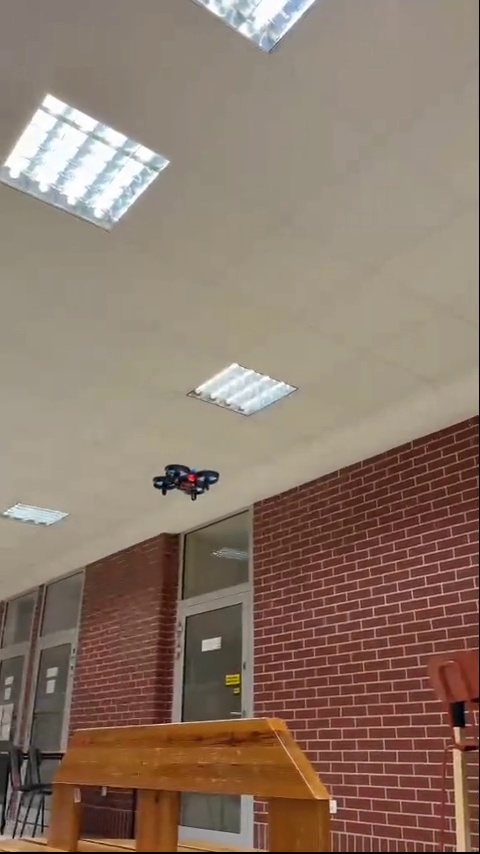drone: (150, 463, 222, 501)
